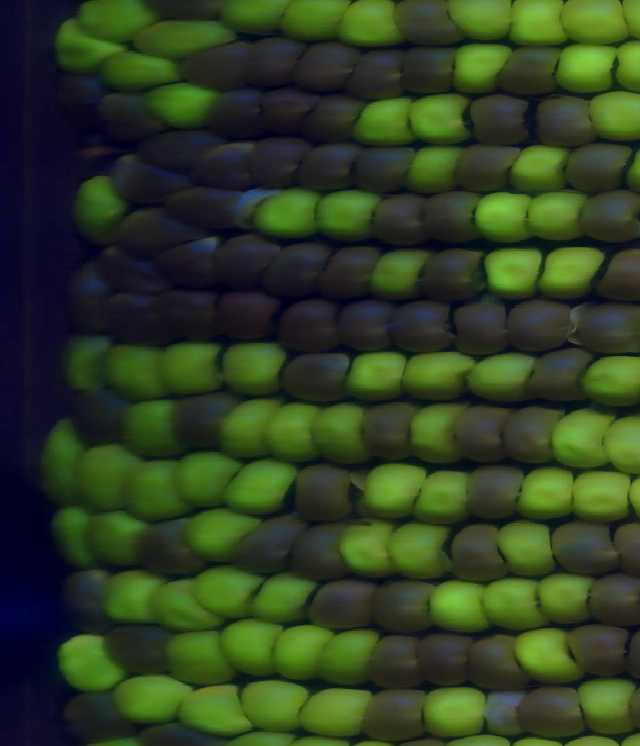fluorescent: (157, 629, 242, 690), (163, 683, 256, 738), (36, 419, 91, 505), (99, 569, 174, 632), (219, 457, 299, 516), (78, 445, 148, 512), (170, 449, 248, 509), (183, 504, 263, 562), (477, 575, 554, 634), (109, 674, 197, 725), (142, 76, 222, 132), (122, 463, 200, 520), (54, 632, 131, 689), (511, 628, 590, 682), (381, 518, 453, 577), (149, 579, 227, 633), (156, 342, 238, 393), (309, 403, 373, 468), (473, 186, 541, 247), (216, 402, 288, 459), (298, 685, 375, 738), (216, 618, 286, 676), (321, 630, 383, 695), (219, 338, 293, 392), (98, 341, 168, 398), (313, 187, 384, 243), (414, 467, 478, 529), (266, 618, 327, 683), (361, 461, 428, 520), (71, 172, 129, 240), (474, 243, 543, 300), (554, 411, 615, 475), (338, 521, 400, 583), (566, 466, 631, 525), (254, 186, 324, 240), (496, 519, 559, 579), (340, 354, 422, 400), (401, 351, 479, 399), (84, 512, 148, 570), (126, 403, 191, 460), (538, 242, 604, 298), (574, 676, 640, 732), (242, 674, 308, 729), (189, 566, 260, 617), (264, 403, 327, 460), (249, 573, 318, 625), (463, 348, 536, 397), (522, 188, 591, 238), (409, 94, 474, 147), (75, 1, 159, 42), (558, 1, 636, 45), (94, 47, 184, 85), (426, 580, 494, 629), (584, 88, 640, 147), (558, 44, 620, 97), (335, 1, 408, 46), (516, 464, 579, 516), (579, 352, 640, 405), (51, 19, 121, 65), (420, 686, 490, 732), (366, 247, 433, 295), (66, 337, 124, 392), (411, 405, 467, 461), (354, 100, 423, 145), (138, 21, 238, 52), (536, 570, 594, 623), (48, 501, 91, 569), (509, 141, 570, 188), (410, 144, 464, 196), (505, 1, 571, 42), (453, 43, 506, 93), (280, 1, 346, 41), (601, 407, 640, 473), (219, 1, 293, 35), (448, 1, 514, 38)
nonfluorescent: (94, 288, 190, 347), (54, 563, 119, 637), (108, 149, 198, 202), (546, 518, 629, 575), (569, 297, 640, 357), (358, 685, 431, 743), (516, 682, 591, 738), (566, 625, 638, 683), (156, 231, 229, 288), (292, 520, 358, 583), (504, 399, 565, 467), (524, 345, 598, 401), (136, 518, 206, 577), (97, 242, 176, 294), (61, 694, 148, 741), (372, 576, 438, 636), (154, 286, 225, 341), (292, 462, 360, 519), (385, 297, 454, 353), (109, 208, 208, 247), (448, 523, 511, 584), (368, 631, 431, 692), (281, 348, 356, 399), (278, 295, 345, 352), (468, 632, 535, 689), (100, 621, 172, 674), (66, 255, 114, 334), (399, 39, 462, 99), (564, 138, 634, 192), (175, 394, 239, 453), (207, 237, 281, 288), (361, 401, 419, 466), (308, 581, 379, 634), (214, 289, 280, 346), (234, 515, 301, 571), (332, 294, 396, 352), (264, 242, 330, 298), (168, 184, 249, 228), (388, 1, 467, 46), (465, 93, 532, 146), (579, 189, 640, 247), (423, 190, 485, 247), (319, 243, 381, 300), (415, 632, 478, 688), (456, 401, 514, 461), (450, 299, 511, 356), (297, 39, 359, 95), (184, 143, 261, 188), (72, 390, 133, 446), (136, 131, 228, 168), (298, 94, 366, 144), (247, 138, 315, 188), (505, 300, 570, 352), (498, 45, 565, 95), (295, 141, 362, 191), (534, 94, 596, 148), (425, 248, 489, 299), (204, 89, 269, 139), (458, 142, 524, 191), (348, 146, 424, 188), (54, 68, 104, 131), (181, 44, 254, 87), (465, 464, 522, 519), (98, 91, 166, 137), (259, 87, 321, 137), (245, 34, 301, 88), (349, 46, 406, 99), (370, 195, 428, 244), (588, 572, 640, 626), (595, 251, 640, 304), (126, 723, 227, 746), (142, 1, 228, 24)
